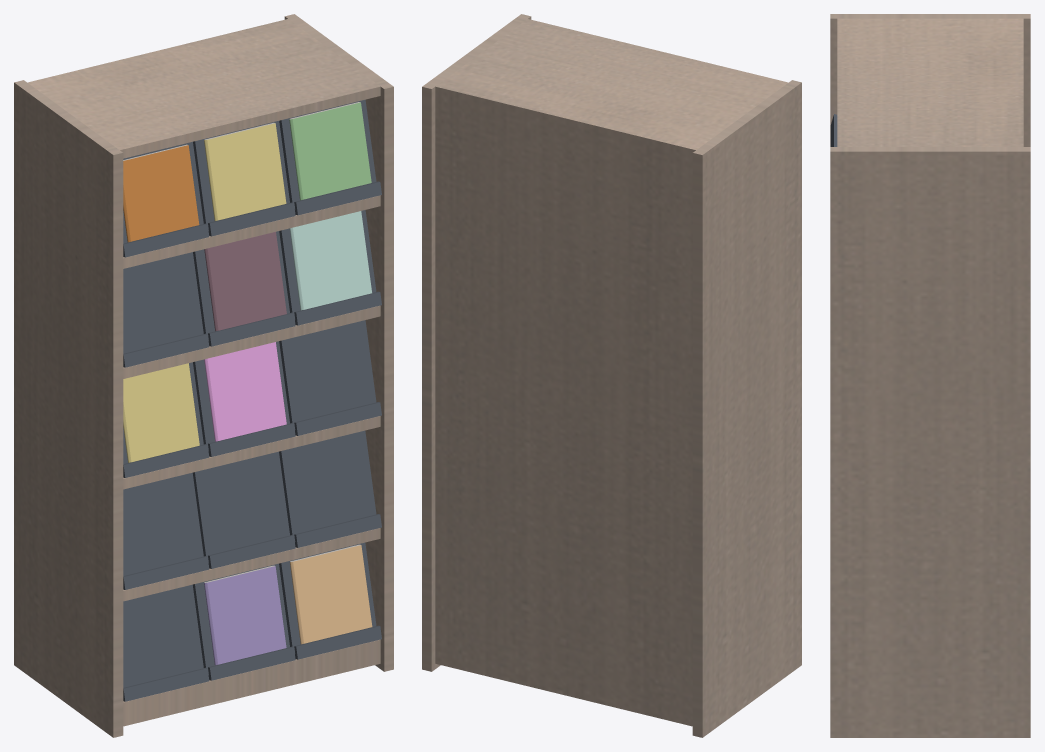
The model's file is magazine_bookself1.fbx.
3 renders of one model, left to right at view 1: azimuth 30°, elevation 25°; view 2: azimuth 150°, elevation 25°; view 3: azimuth 270°, elevation 25°, orthographic.
Parts seen in each view (by area): view 1: magazine_bookself1; view 2: magazine_bookself1; view 3: magazine_bookself1.
Part boxes in pixels (box(x1,y1,x2,y2)): magazine_bookself1: box(14, 14, 393, 737); magazine_bookself1: box(422, 14, 801, 737); magazine_bookself1: box(830, 14, 1030, 737).
Bounding box in the file's own units: 0.0113 × 0.0225 × 0.00696.
Materials: 1 (1 with a texture image).
